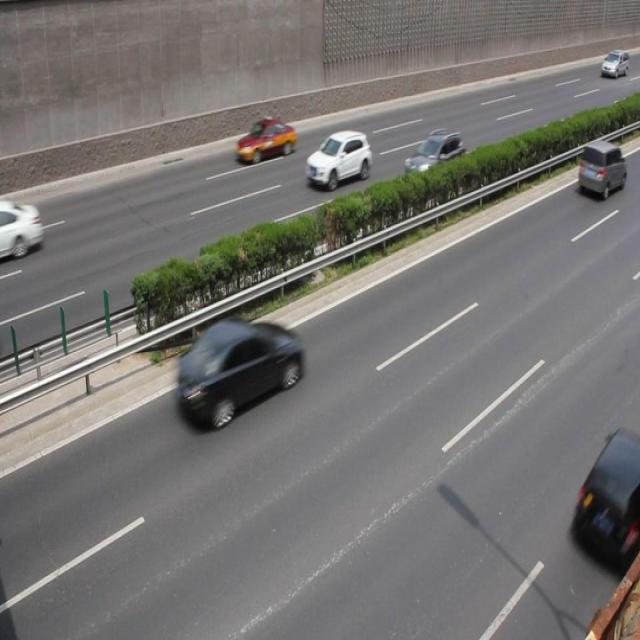car: (174, 315, 304, 426), (403, 129, 464, 196), (306, 129, 372, 189), (234, 115, 294, 166), (578, 139, 625, 199), (0, 199, 42, 260)
